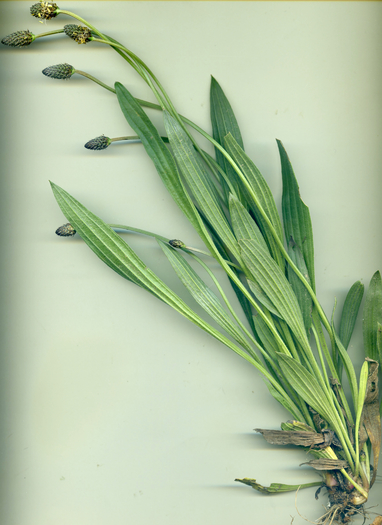buckhorn plantain: (2, 3, 380, 503)
